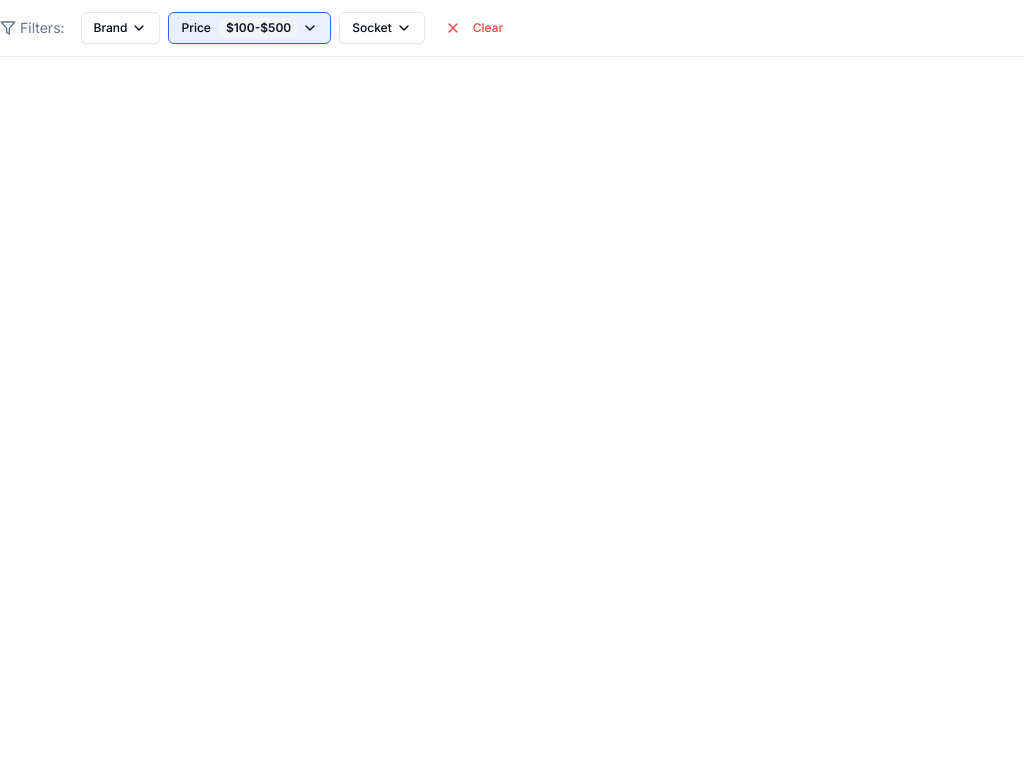
Test: FilterSortToolbar › Price Filter › should show current price range
Click the button "Price $100-$500" at coordinates (250, 28), box top-left (168, 12), bottom-right (331, 44)
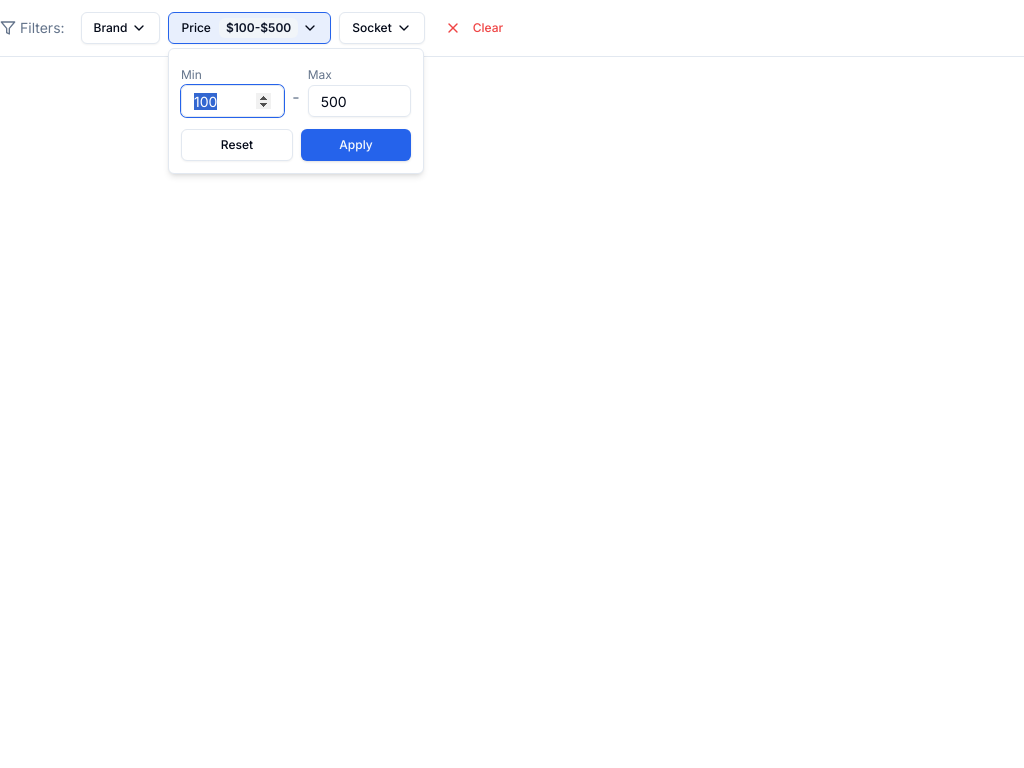
Expected: the number field labelled "Min" holds "100", top-left (181, 85), bottom-right (284, 117)
Expected: the number field labelled "Max" holds "500", top-left (308, 85), bottom-right (411, 117)
